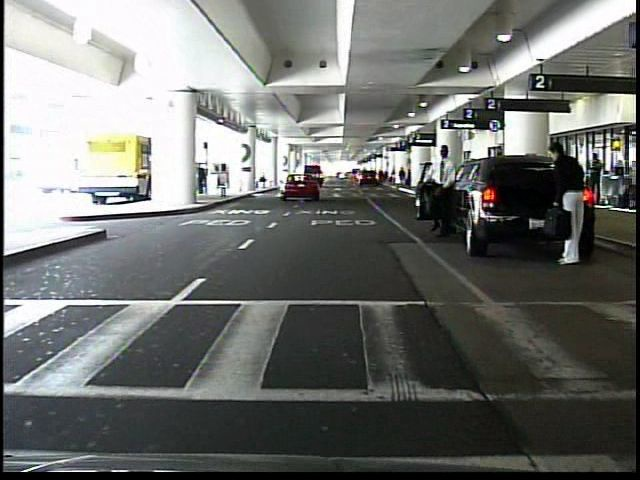person: (541, 138, 588, 266), (424, 144, 454, 243), (588, 154, 602, 206), (195, 160, 209, 196), (398, 166, 409, 189)
